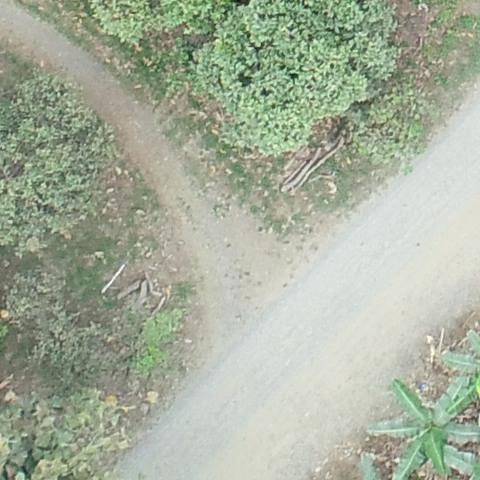Banana-plant: (361, 371, 480, 480)
